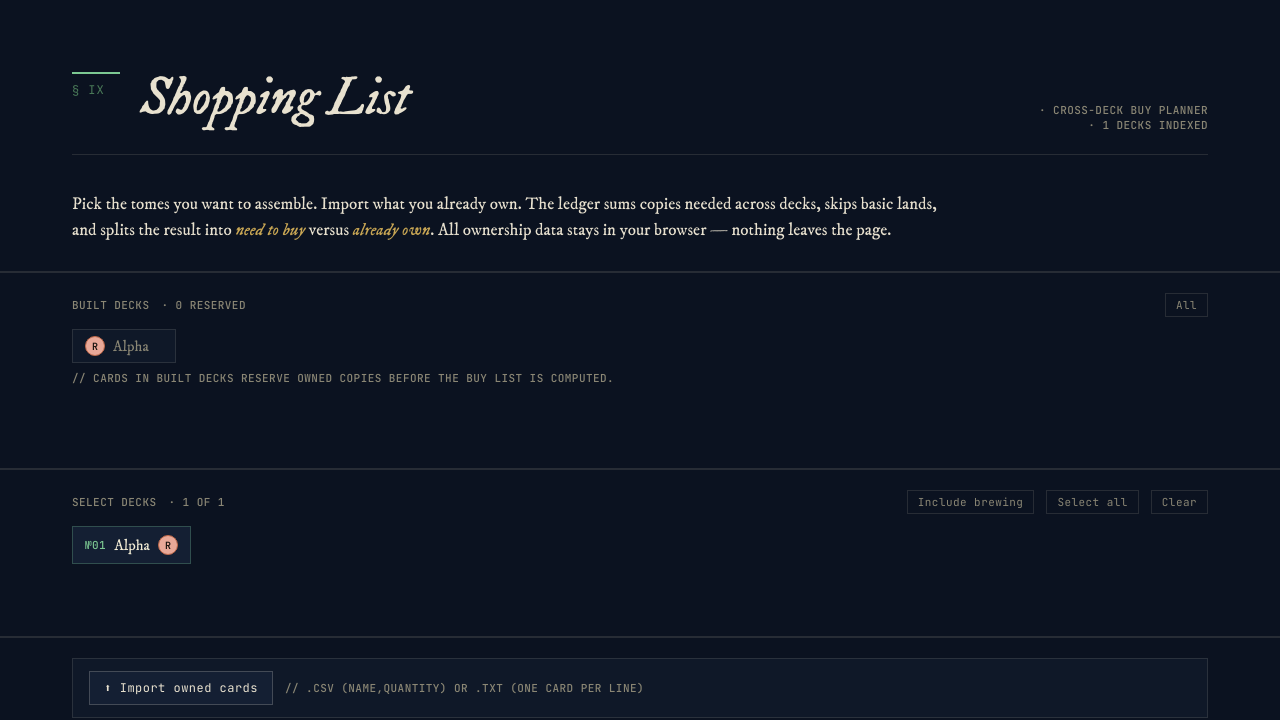
Test: Shopping organism › keeps brewing decks out of the Built rail even when opted into the picker (DEC-336 follow-up)
The image size is (1280, 720).
Expected: the button with aria-label "Mark Alpha as built" is shown, [72,330,176,364]
Note: Opt brewing into the picker — it shows in Select decks but still NOT in the Built rail.
Click the button "Include brewing" at (971, 502), box [907,490,1034,514]
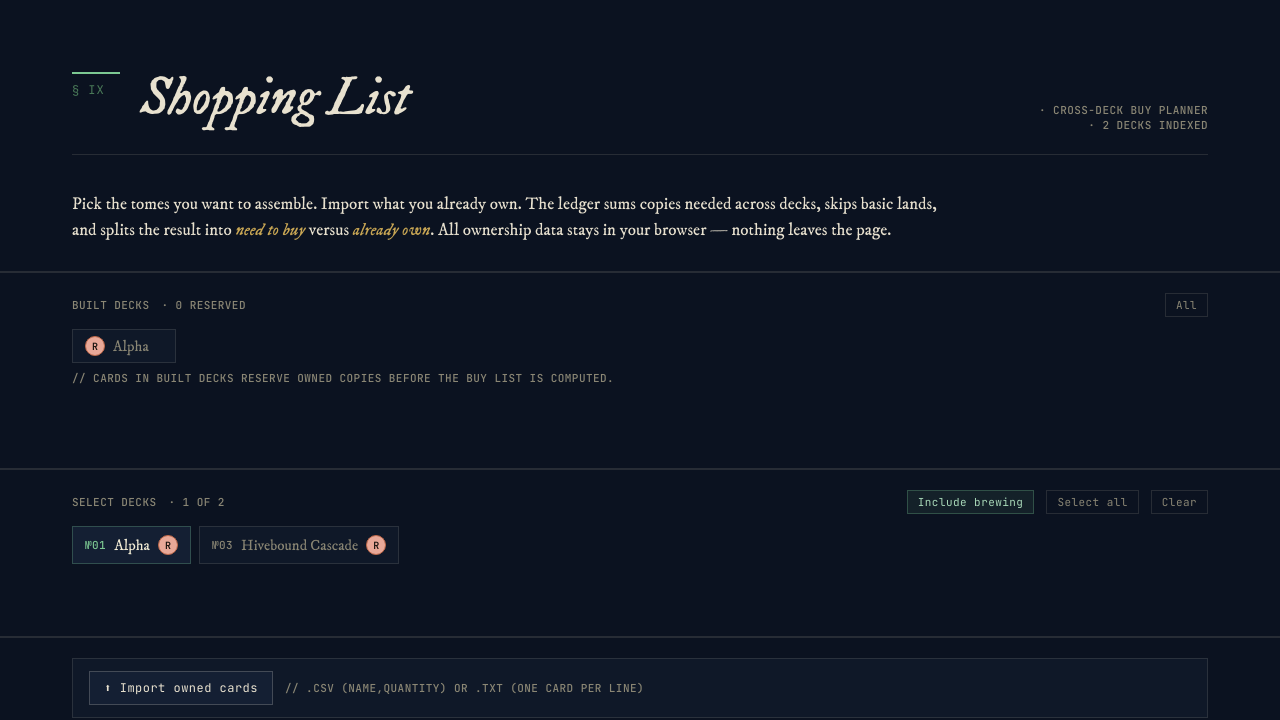
Result: the button with aria-label "Add Hivebound Cascade" is shown at [199,526,399,564]
